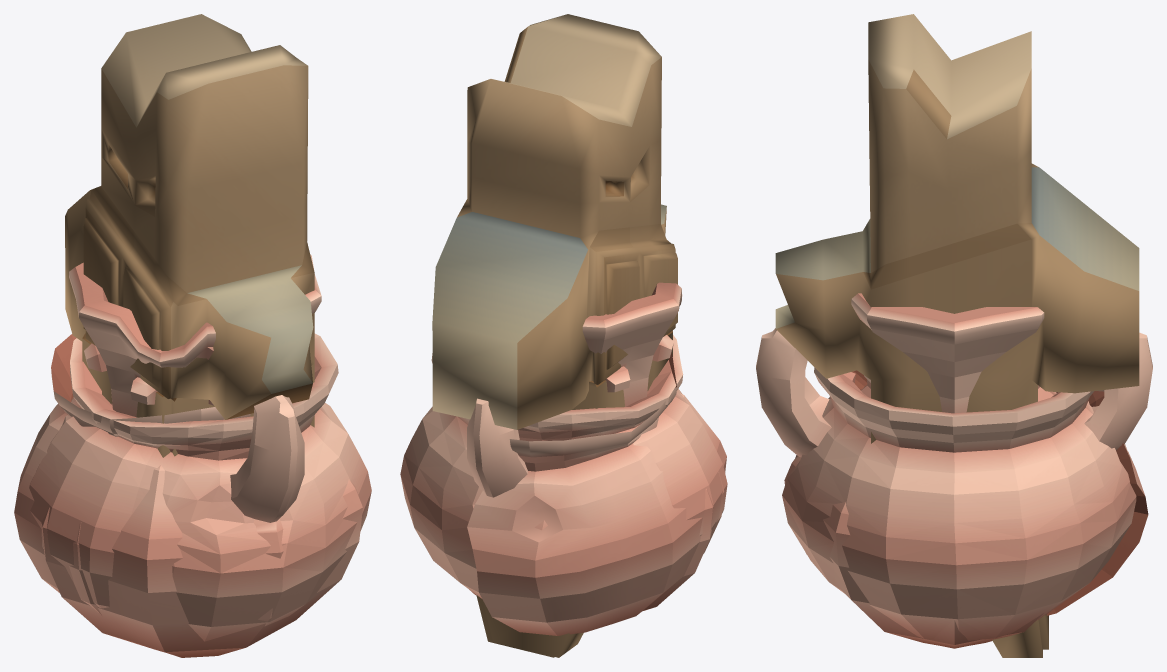
Rendered from Dig Props Fixed Pivot.fbx.
3 renders of one model, left to right at view 1: azimuth 30°, elevation 25°; view 2: azimuth 150°, elevation 25°; view 3: azimuth 270°, elevation 25°, orthographic. The views are drawn at different scales.
Parts seen in each view (by area): view 1: UnknownFigure_Complete, Ancient_Bowl, Ancient_Vase, Ancient_Bowl_Chunk1, UnknownFigure_Broken; view 2: UnknownFigure_Complete, Ancient_Bowl_Chunk1, Ancient_Bowl, Ancient_Vase, UnknownFigure_Broken; view 3: UnknownFigure_Complete, Ancient_Bowl, Ancient_Vase, Ancient_Bowl_Chunk1.
Boxes of the visible parts, left/top/right/bottom form: UnknownFigure_Complete: left=65, top=14, right=314, bottom=456; Ancient_Bowl: left=29, top=333, right=371, bottom=641; Ancient_Vase: left=41, top=254, right=362, bottom=657; Ancient_Bowl_Chunk1: left=14, top=334, right=250, bottom=615; UnknownFigure_Broken: left=82, top=333, right=171, bottom=457; UnknownFigure_Complete: left=432, top=14, right=677, bottom=657; Ancient_Bowl_Chunk1: left=467, top=352, right=724, bottom=635; Ancient_Bowl: left=400, top=335, right=727, bottom=598; Ancient_Vase: left=467, top=282, right=726, bottom=610; UnknownFigure_Broken: left=482, top=331, right=672, bottom=657; UnknownFigure_Complete: left=775, top=14, right=1139, bottom=657; Ancient_Bowl: left=782, top=367, right=1136, bottom=640; Ancient_Vase: left=756, top=293, right=1152, bottom=648; Ancient_Bowl_Chunk1: left=852, top=370, right=1148, bottom=615.
Bounding box in the file's own units: 2.21 × 4.12 × 2.47.
1 material, 1 textured.
